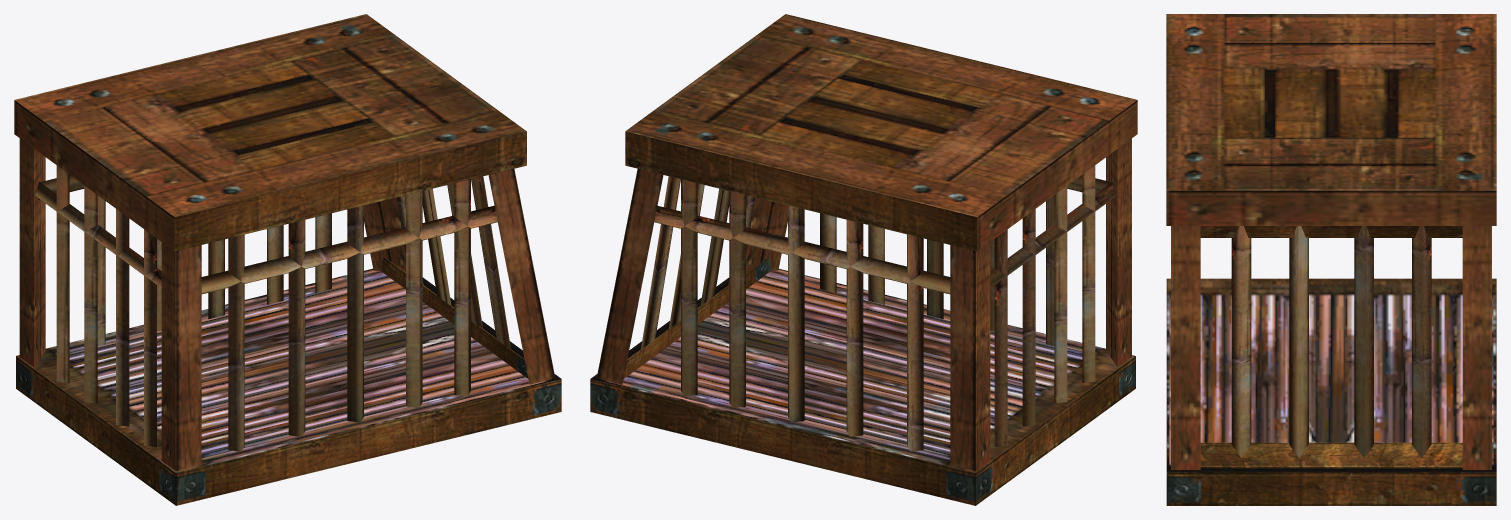
Rendered from thm_endr_cage_bamboo_l1.fbx.
3 views of the same model, side by side, from view 1: azimuth 30°, elevation 25°; view 2: azimuth 150°, elevation 25°; view 3: azimuth 270°, elevation 25° (orthographic). The views are drawn at different scales.
Visible parts, largest first — view 1: mesh_node; view 2: mesh_node; view 3: mesh_node.
Boxes of the visible parts, x1,y1,x2,y2 form: mesh_node: (14, 14, 561, 505); mesh_node: (590, 14, 1137, 505); mesh_node: (1166, 14, 1496, 505).
Size of the model in its own units: 0.979 by 0.6988 by 0.7028.
1 material, 1 textured.
